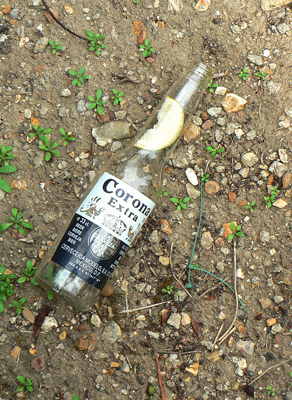litter: (34, 59, 215, 312)
